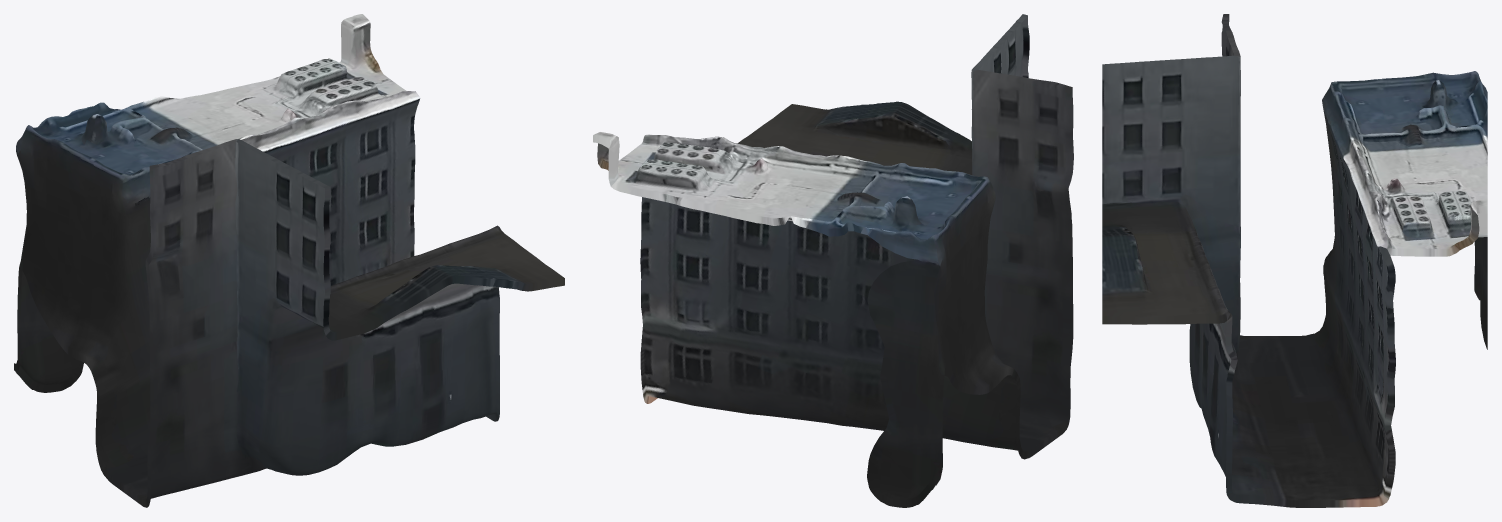
The model's file is z20-167767-405234-h0-yup-uvflip-v3-world.glb.
3 renders of one model, left to right at view 1: azimuth 30°, elevation 25°; view 2: azimuth 150°, elevation 25°; view 3: azimuth 270°, elevation 25°, orthographic. The views are drawn at different scales.
Size of the model in its own units: 30.16 by 28.84 by 30.32.
1 material, 1 textured.
